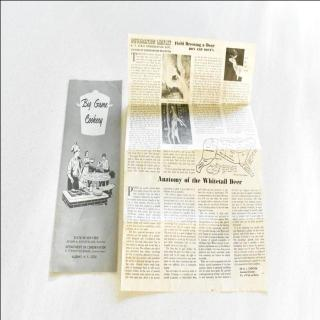Anorganik: (123, 33, 271, 300)
